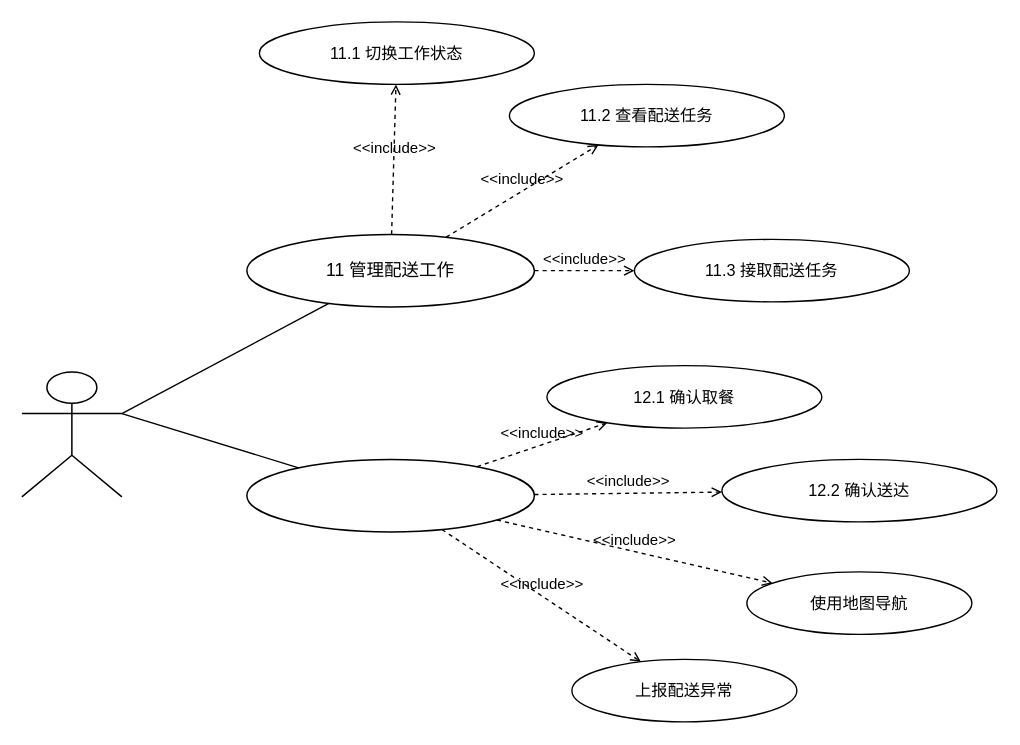
Image size: 1020x745. Some labels were removed from this diagram. The box of each missing label's shape, as (x1, y1, x2, y2) in pixels:
12 执行配送任务: (246, 458, 534, 532)
骑手: (20, 370, 122, 497)
